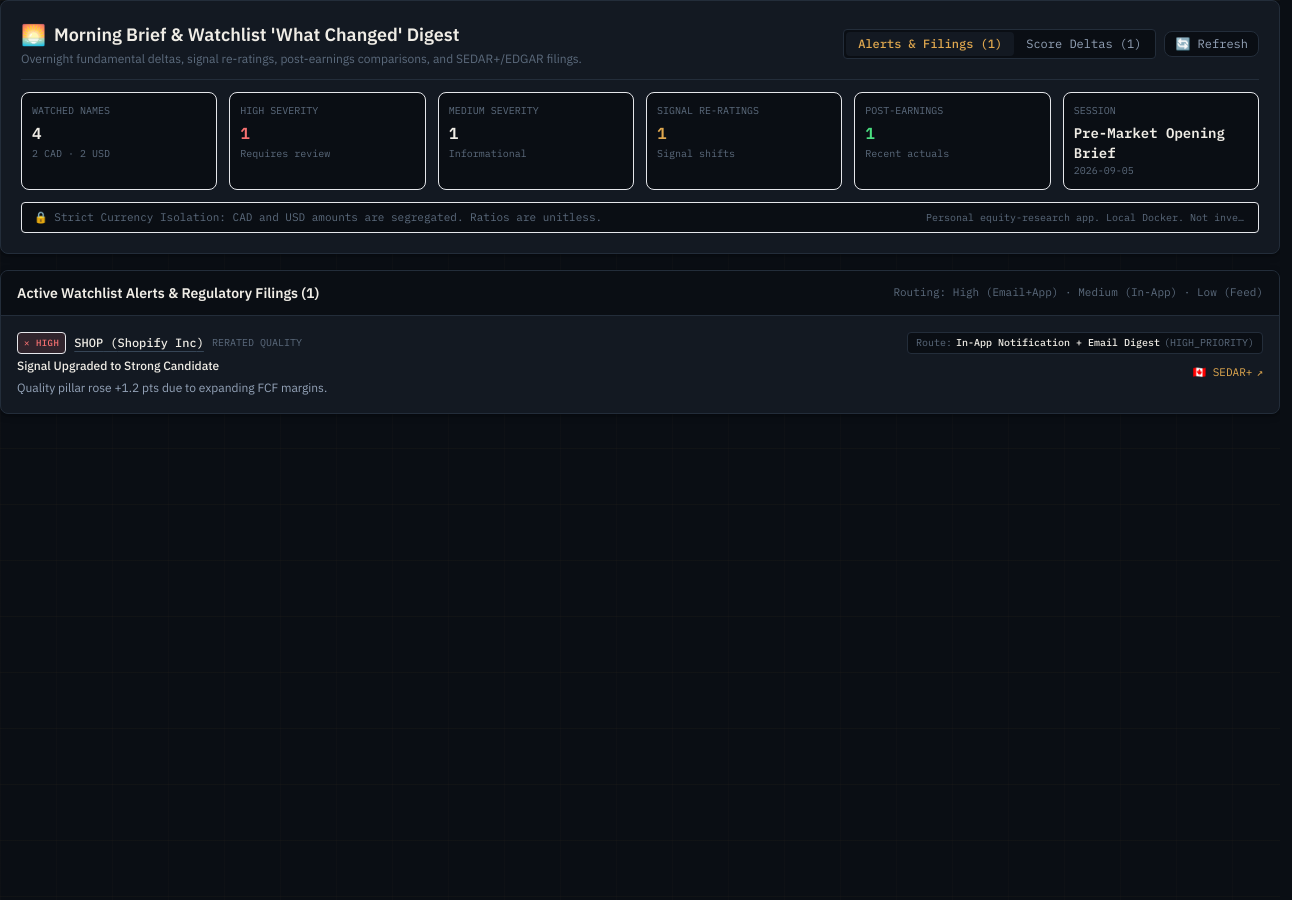
Test case: Wave 2 Screener & Watchlist Components › renders MorningBrief with 1-page digest stats, alert feed, and regulatory filings (US-0084, US-0351, US-0377)
Expected: the heading "Morning Brief & Watchlist 'What Changed' Digest" is shown, [54,21,459,49]
Expected: the heading "Signal Upgraded to Strong Candidate" is shown, [17,358,219,372]
Note: Switch tab to Score Deltas
Click the button "Score Deltas (1)" at x=1084, y=44, box [1014,32,1153,56]
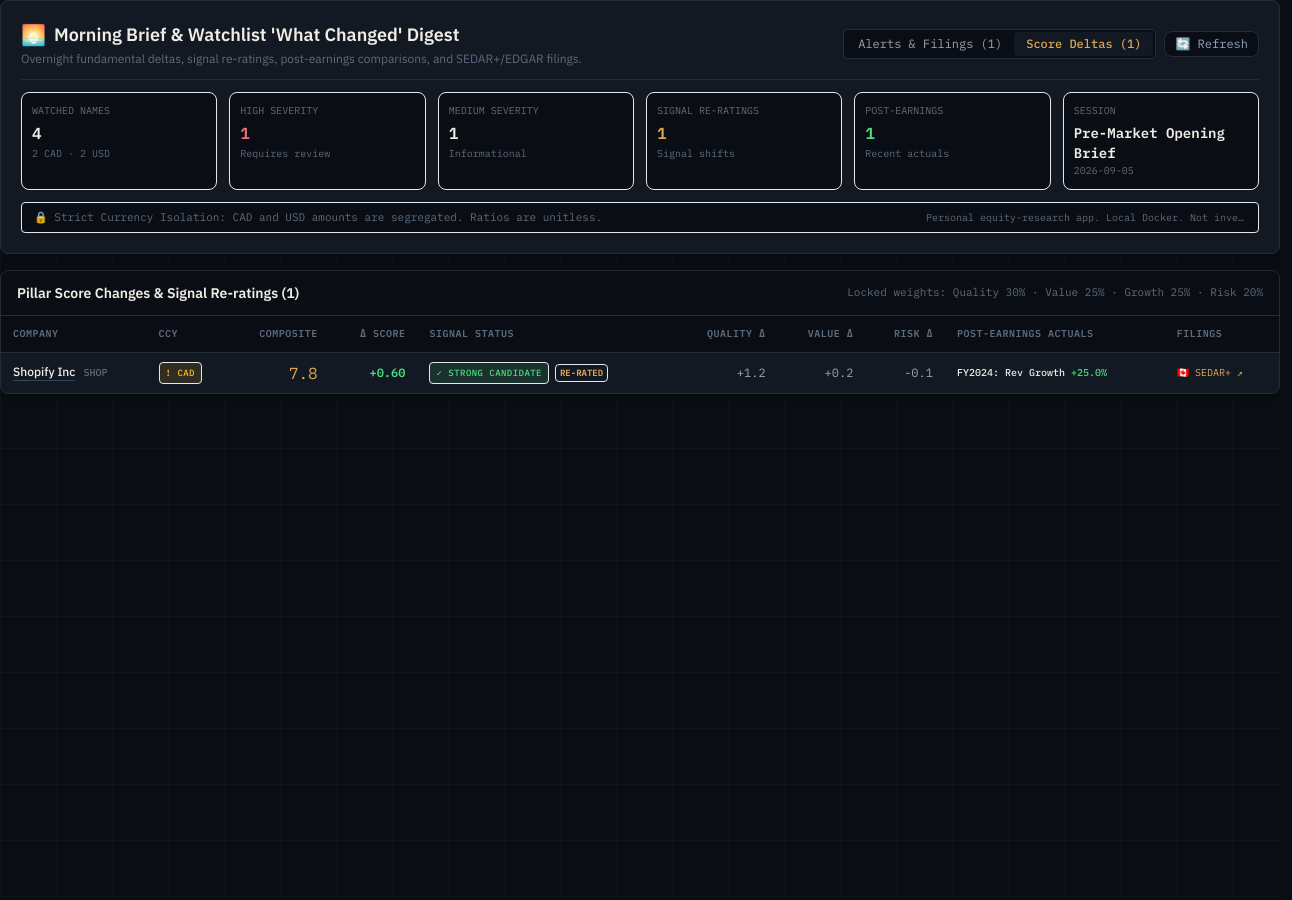
Now the text "+0.60" is shown, box [370,364,406,380]
Now the text "Re-Rated" is shown, box [555,364,608,382]
Now the text "FY2024: Rev Growth +25.0%" is shown, box [957,366,1107,378]
